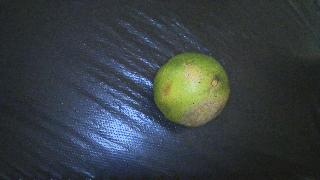DESECHO: (154, 53, 230, 127)
